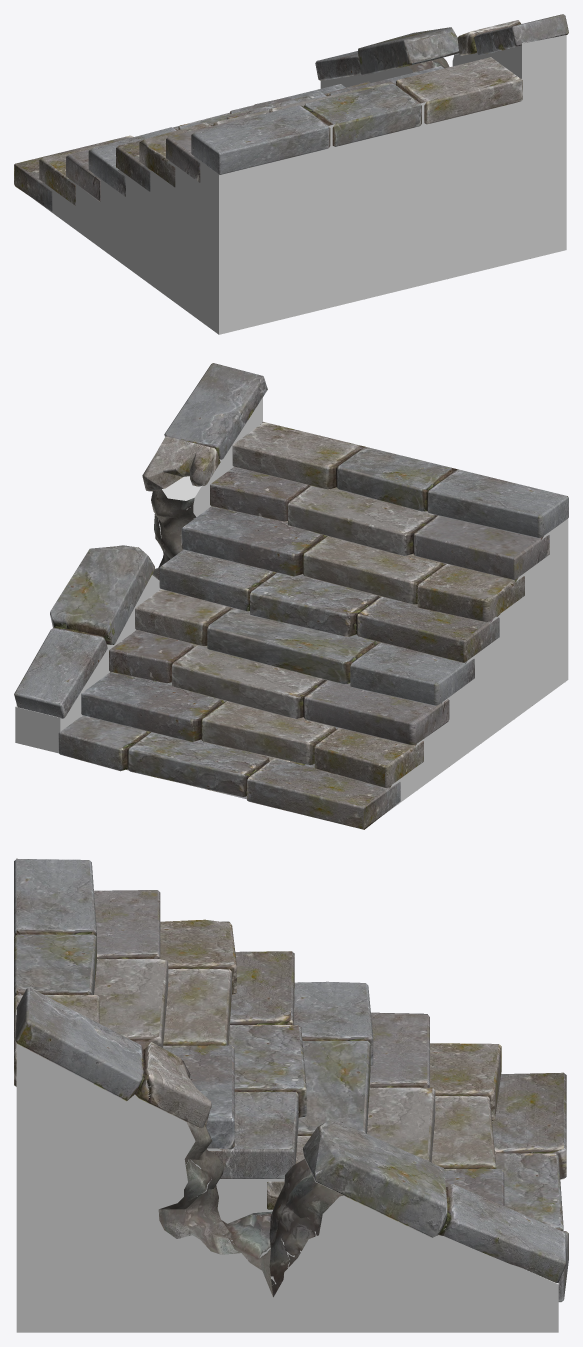
The picture shows the model from 3 angles, top to bottom: view 1: azimuth 30°, elevation 25°; view 2: azimuth 150°, elevation 25°; view 3: azimuth 270°, elevation 25°; orthographic projection. The views are drawn at different scales.
Parts seen in each view (by area): view 1: SM_DR_Steps_4x2_01_v3_LOD0; view 2: SM_DR_Steps_4x2_01_v3_LOD0; view 3: SM_DR_Steps_4x2_01_v3_LOD0.
Boxes of the visible parts, x1,y1,x2,y2 form: SM_DR_Steps_4x2_01_v3_LOD0: [14, 14, 568, 334]; SM_DR_Steps_4x2_01_v3_LOD0: [14, 363, 568, 829]; SM_DR_Steps_4x2_01_v3_LOD0: [14, 858, 568, 1332].
Bounding box in the file's own units: 4.1 × 2.55 × 4.1.
Materials: 3 (2 with a texture image).
